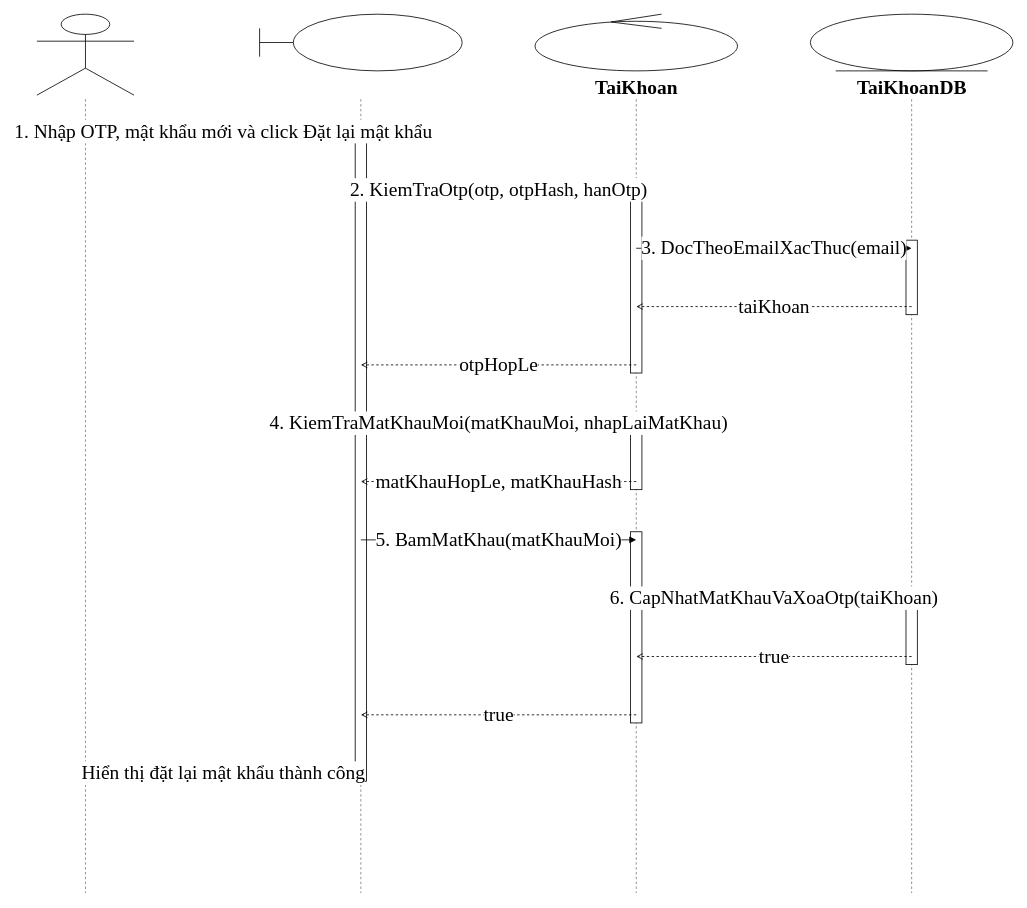
This 1027x908 diagram has some shape labels left out. The shapes that lost their labels are listed below. From the top down, each one's centre as x and y in pixels, then its label:
At (85,54): "Người dùng".
At (360,42): "MHDatLaiMatKhau".
